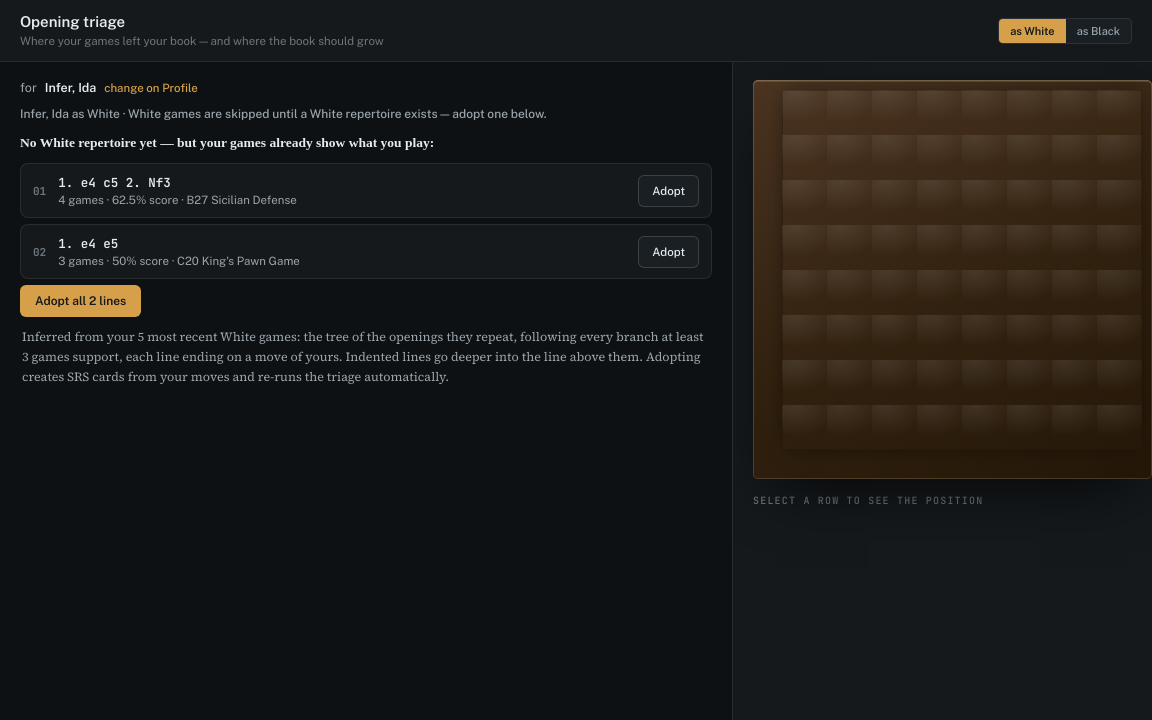
Test case: TriageView — card-less color suggestion flow › adopt-all adds every line, reports real card totals, and re-runs the triage
Click the button "Adopt all 2 lines" at (81, 301), box [20,285,141,317]
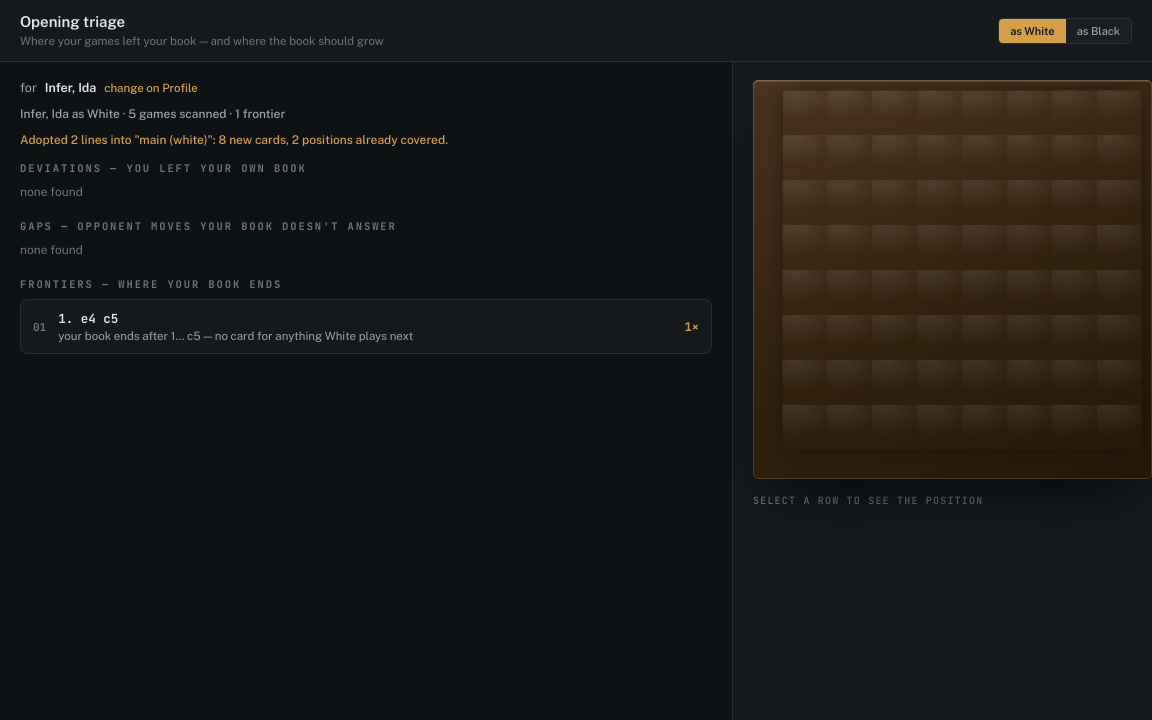
Expected: the text "Adopted 2 lines into \"main (white)\": 8 new cards, 2 positions already covered." is shown, [20,133,448,147]
Expected: the text "your book ends after" is shown, [58,329,413,343]
Expected: the text "No White repertoire yet" is gone
